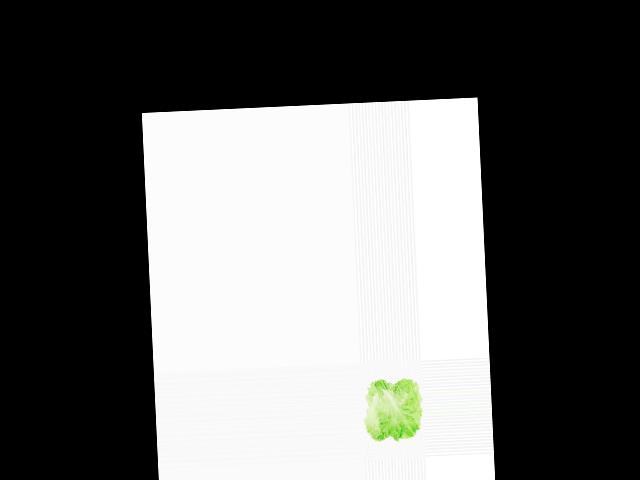lettuce: (360, 373, 425, 447)
